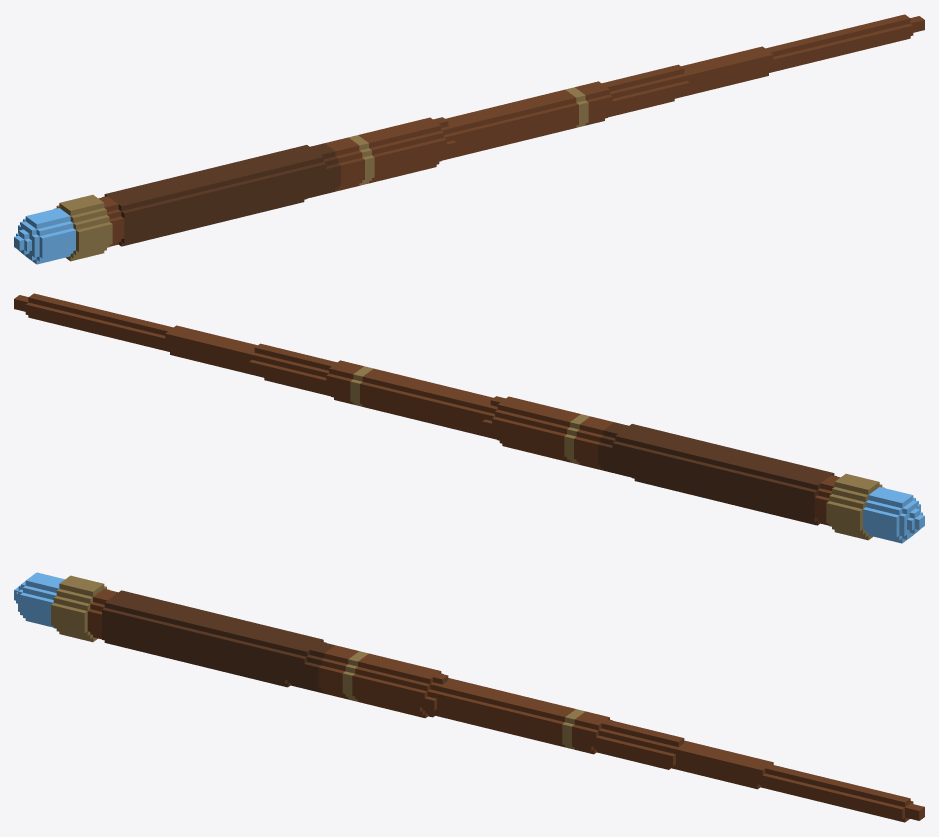
The model's file is crystal_butt_wand.glb.
3 views of the same model, one above another, from view 1: azimuth 30°, elevation 25°; view 2: azimuth 150°, elevation 25°; view 3: azimuth 330°, elevation 25° (orthographic).
Visible parts, largest first — view 1: crystal_butt_wand:compound; view 2: crystal_butt_wand:compound; view 3: crystal_butt_wand:compound.
Boxes of the visible parts, box(x1,y1,x2,y2) form: crystal_butt_wand:compound: box(14, 14, 924, 264); crystal_butt_wand:compound: box(14, 293, 924, 543); crystal_butt_wand:compound: box(14, 572, 924, 822).
Bounding box in the file's own units: 0.376 × 0.02 × 0.02.
